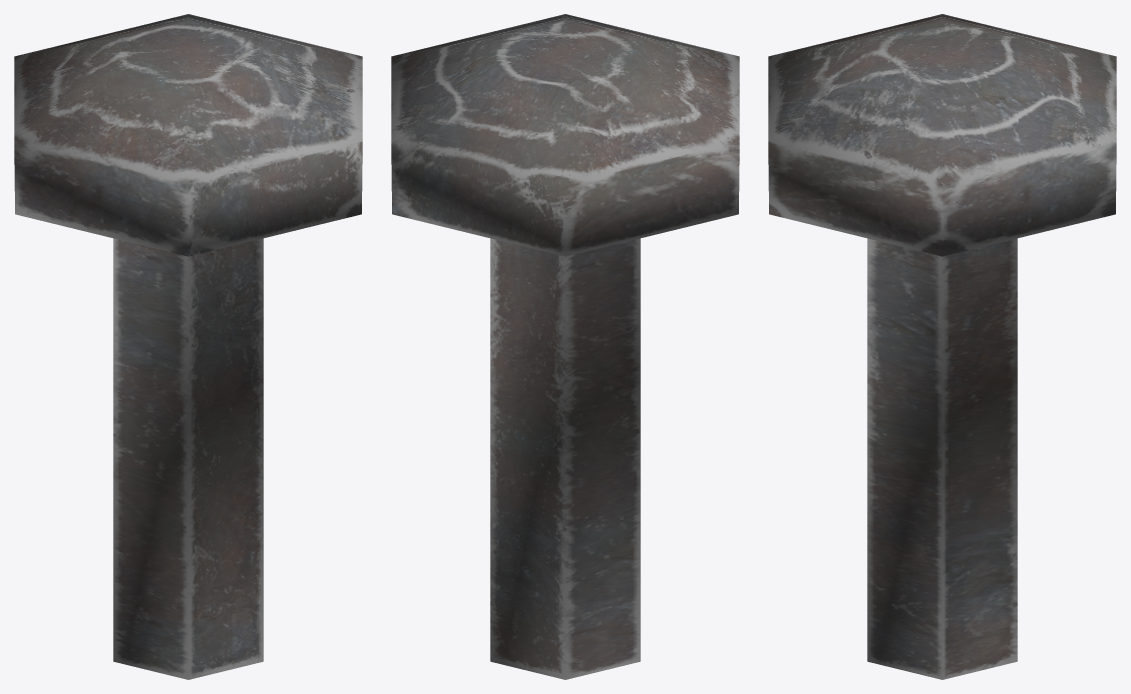
File: NAIL.fbx
3 renders of one model, left to right at view 1: azimuth 30°, elevation 25°; view 2: azimuth 150°, elevation 25°; view 3: azimuth 270°, elevation 25°, orthographic.
Visible parts, largest first — view 1: SMALL_NAIL; view 2: SMALL_NAIL; view 3: SMALL_NAIL.
Boxes of the visible parts, box(x1,y1,x2,y2) form: SMALL_NAIL: box(14, 14, 362, 679); SMALL_NAIL: box(391, 14, 739, 679); SMALL_NAIL: box(768, 14, 1116, 679).
Size of the model in its own units: 0.116 by 0.1869 by 0.1004.
Materials: 1 (1 with a texture image).
